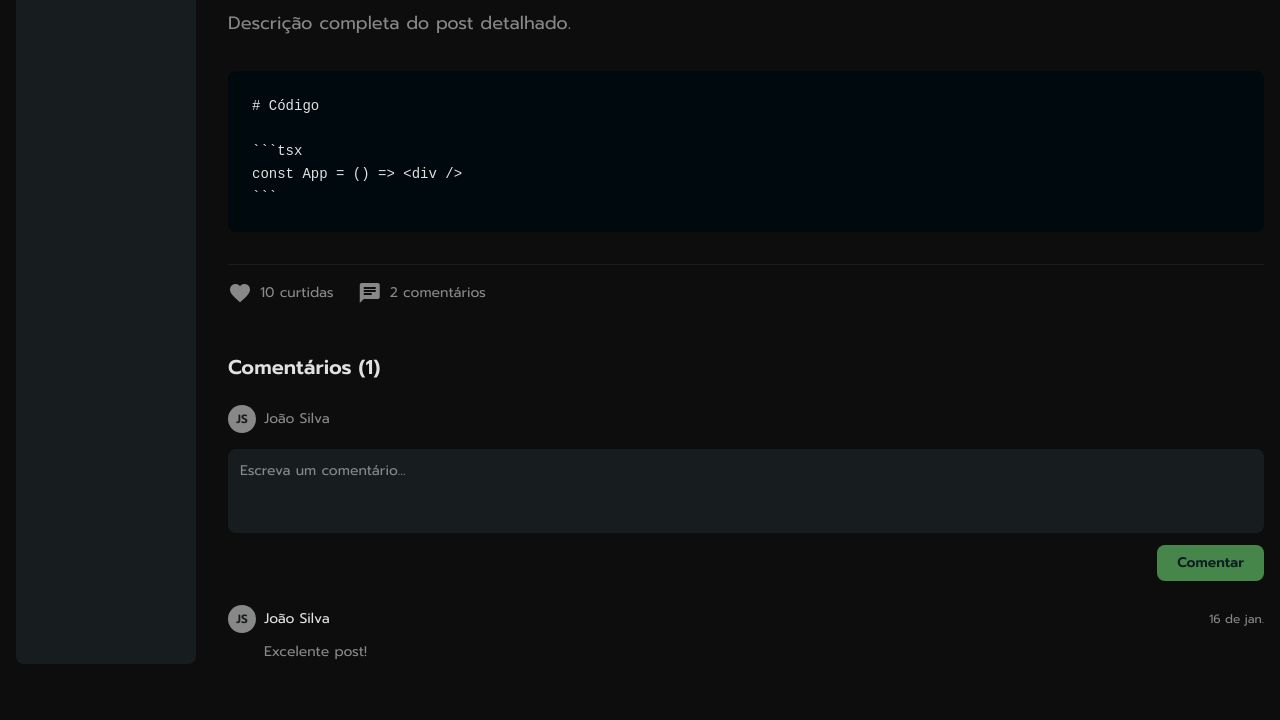
Scenario: PostDetailPage › deve adicionar comentário e exibi-lo na lista
This screenshot has width=1280, height=720.
(page scrolled)
In the text box labelled "Escreva um comentário...": (746, 491) [228,449,1264,533], type "Novo comentário!"
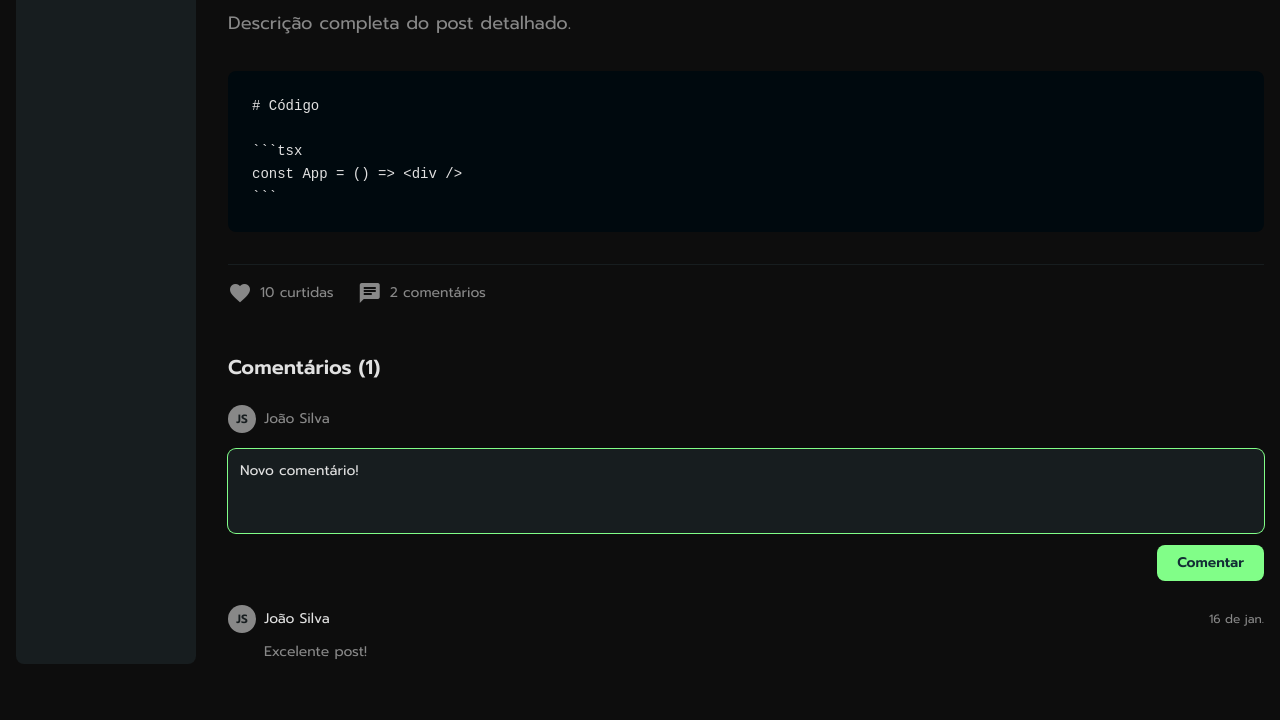
Click the button "Comentar": (1211, 563) [1157,545,1264,581]
(page scrolled)
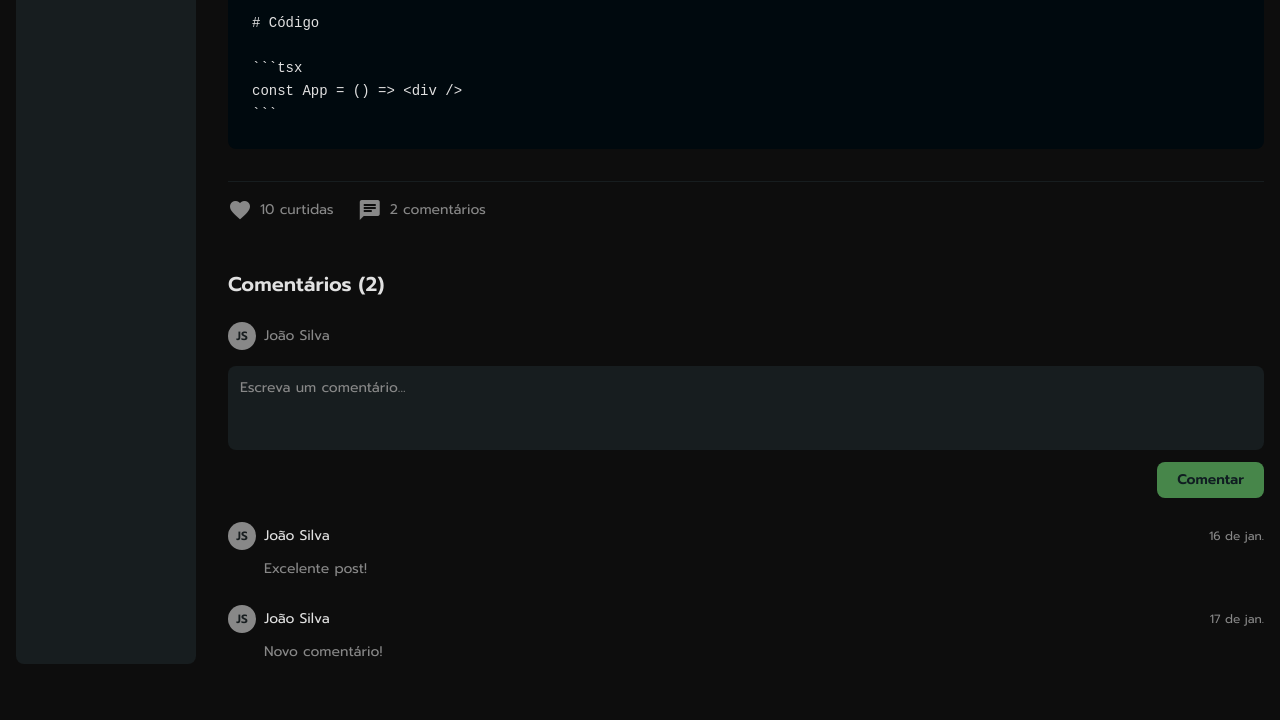
Check: the text "Novo comentário!" is shown, box [264,641,382,662]
